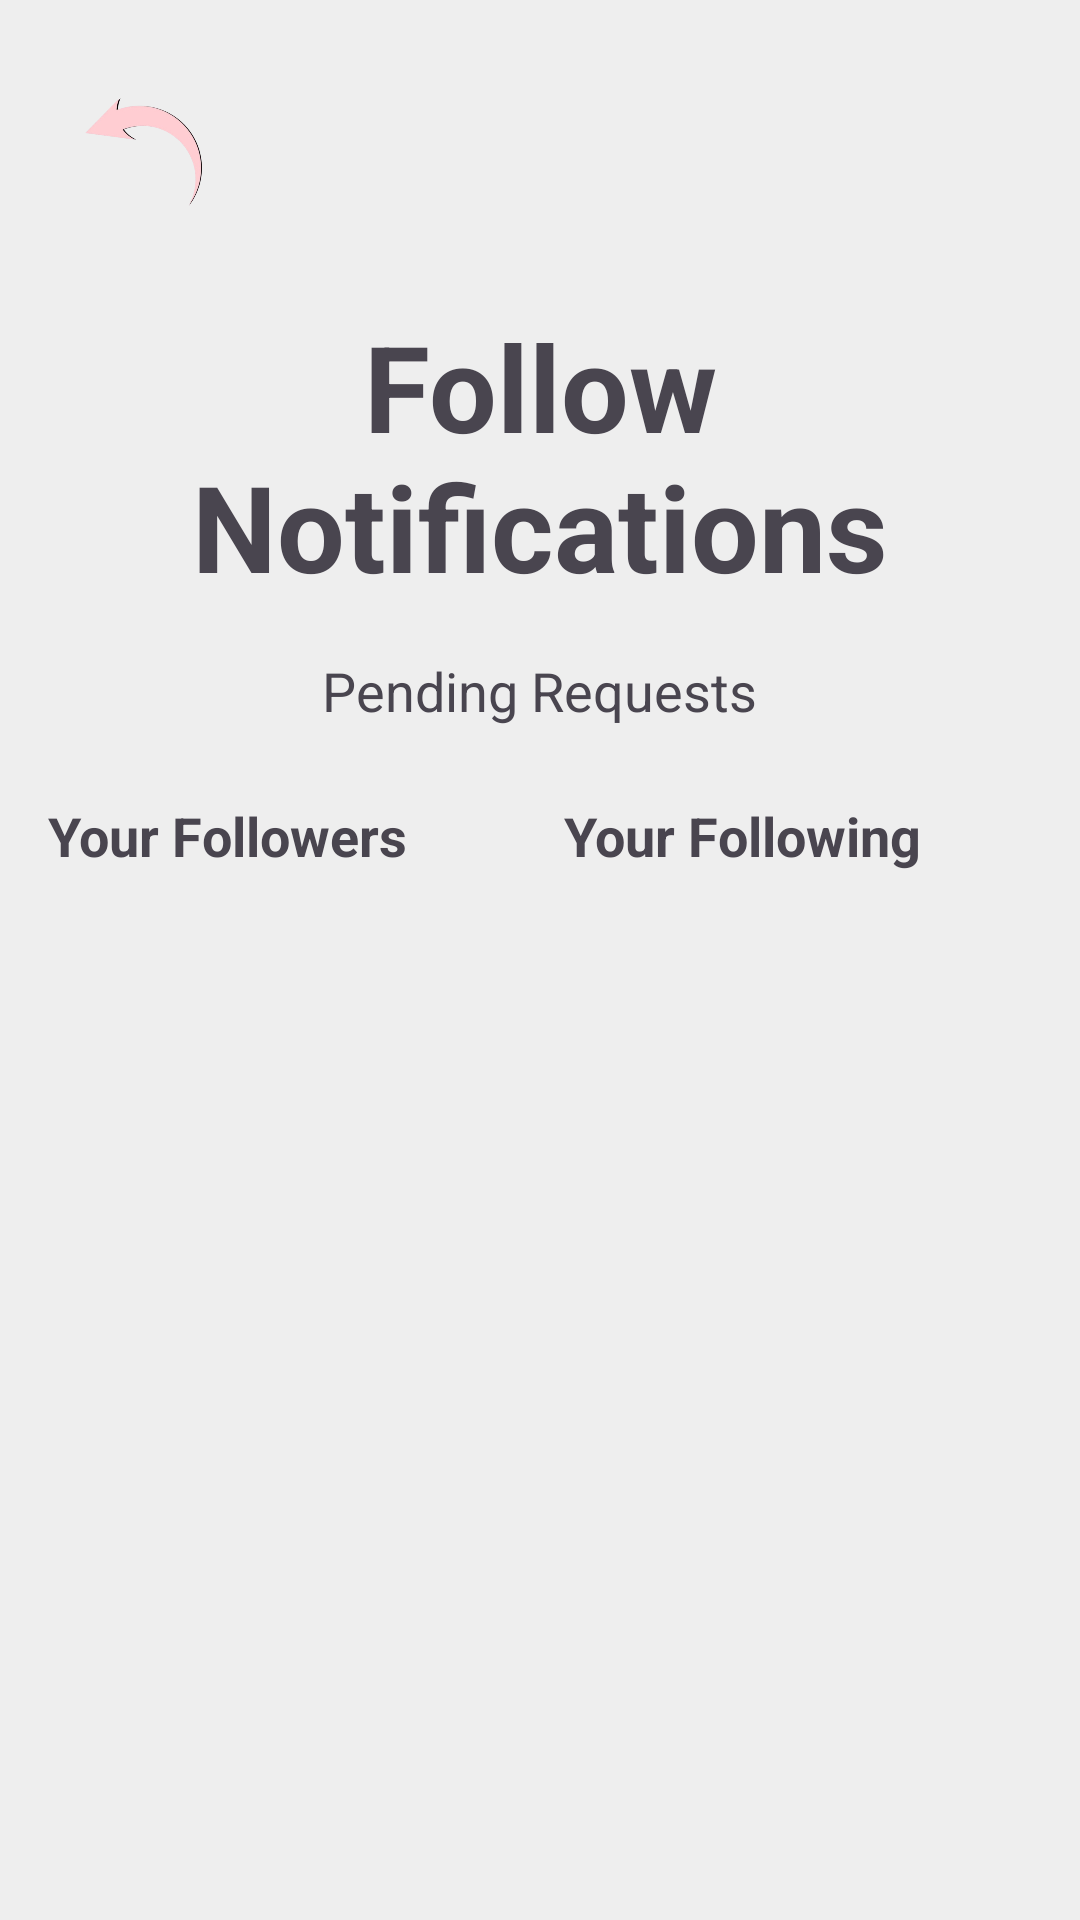

Icon bounding boxes for this 1080×1920 phone screenshot, format box=[x1, y1, x2, y2]:
Back Button: box=[86, 98, 202, 205]
